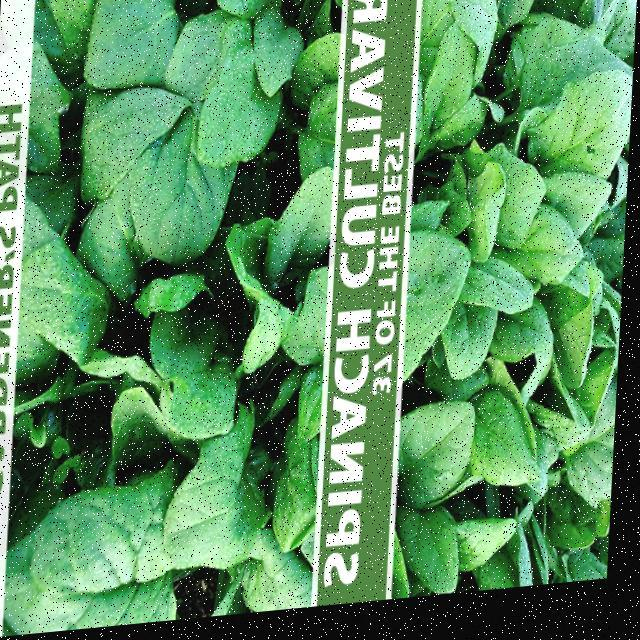Spinach: (12, 0, 344, 637), (399, 0, 640, 608)
